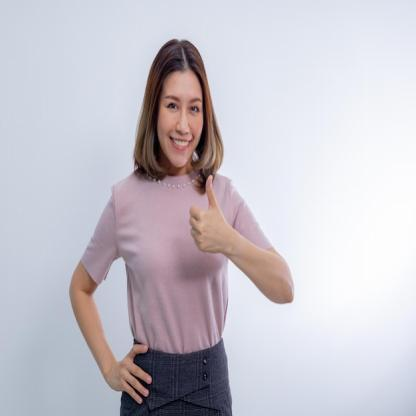thumb_up: (188, 174, 226, 256)
